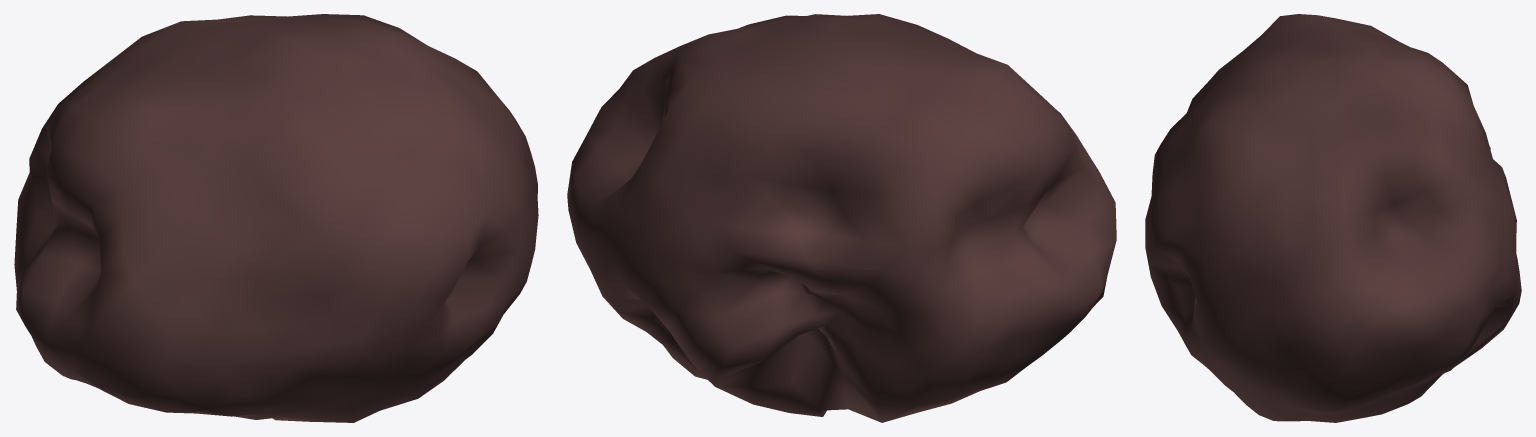
File: asteroid_med_13.glb
3 renders of one model, left to right at view 1: azimuth 30°, elevation 25°; view 2: azimuth 150°, elevation 25°; view 3: azimuth 270°, elevation 25°, orthographic. The views are drawn at different scales.
Parts seen in each view (by area): view 1: asteroid_med_13; view 2: asteroid_med_13; view 3: asteroid_med_13.
Part boxes in pixels (x1,y1,x2,y2): asteroid_med_13: (14,14,538,422); asteroid_med_13: (567,14,1116,422); asteroid_med_13: (1145,14,1521,422).
Bounding box in the file's own units: 2.27 × 1.62 × 1.7.
